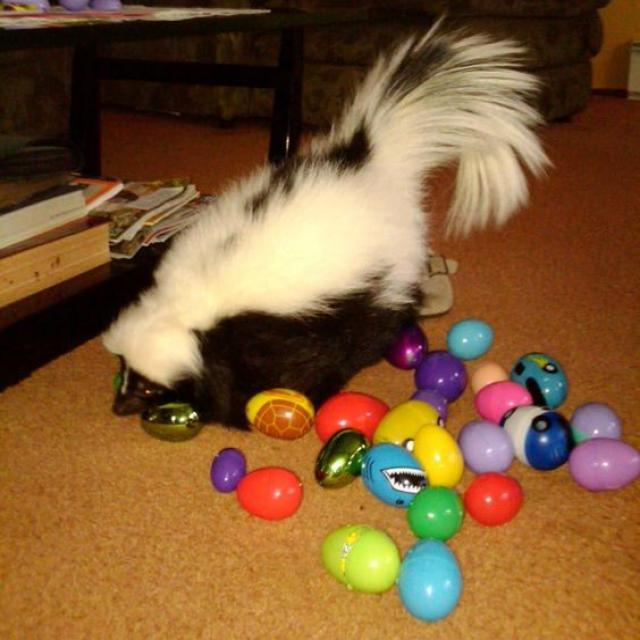Skunk: (96, 51, 535, 435)
